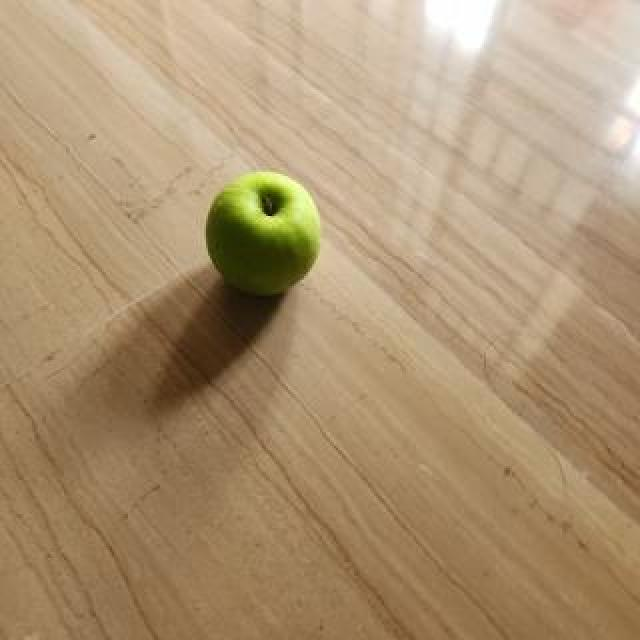Fresh Apple: (197, 175, 333, 308)
